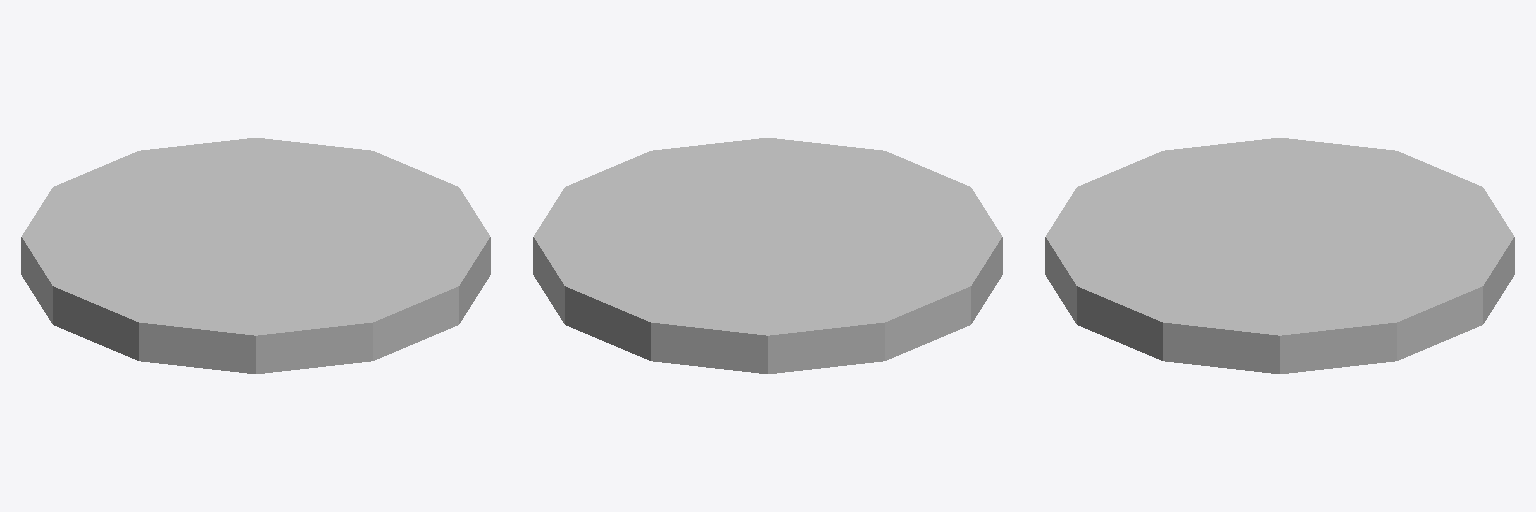
The model's file is Dime.obj.
The picture shows the model from 3 angles: view 1: azimuth 30°, elevation 25°; view 2: azimuth 150°, elevation 25°; view 3: azimuth 270°, elevation 25°; orthographic projection.
Visible parts, largest first — view 1: Dime; view 2: Dime; view 3: Dime.
Part boxes in pixels (left/top/right/bottom): Dime: left=21, top=138, right=490, bottom=373; Dime: left=533, top=138, right=1002, bottom=373; Dime: left=1045, top=138, right=1514, bottom=373.
Size of the model in its own units: 0.819 by 0.0746 by 0.819.